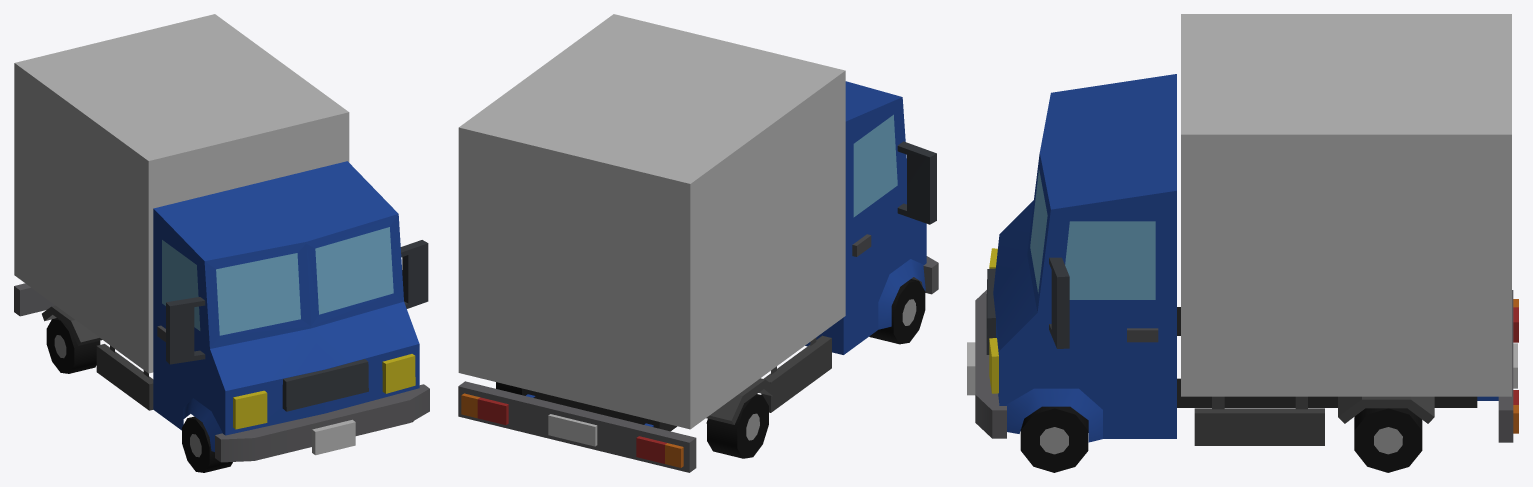
Rendered from Car_018.fbx.
The picture shows the model from 3 angles, left to right: view 1: azimuth 30°, elevation 25°; view 2: azimuth 150°, elevation 25°; view 3: azimuth 270°, elevation 25°; orthographic projection. The views are drawn at different scales.
Parts seen in each view (by area): view 1: Car_018; view 2: Car_018; view 3: Car_018.
Boxes of the visible parts, box(x1,y1,x2,y2) form: Car_018: box(14, 14, 429, 472); Car_018: box(458, 14, 938, 472); Car_018: box(967, 14, 1518, 472).
Size of the model in its own units: 165 by 166 by 248.
